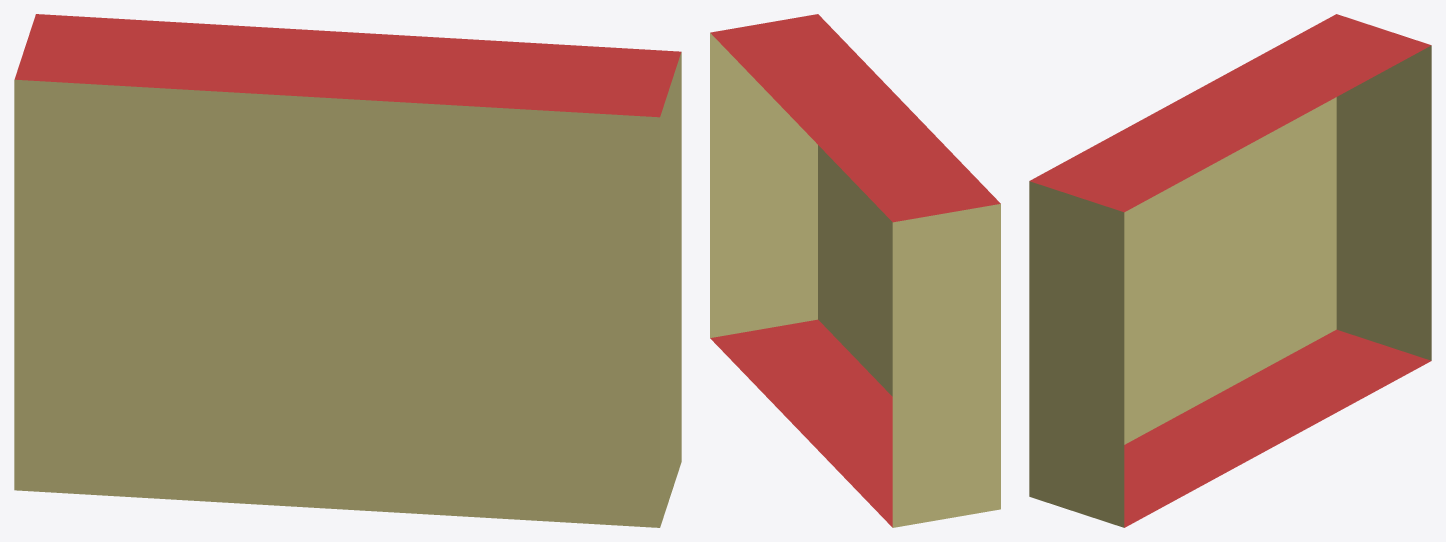
3 renders of one model, left to right at view 1: azimuth 30°, elevation 25°; view 2: azimuth 150°, elevation 25°; view 3: azimuth 270°, elevation 25°, orthographic. The views are drawn at different scales.
Bounding box in the file's own units: 7.72 × 6.62 × 5.73.
